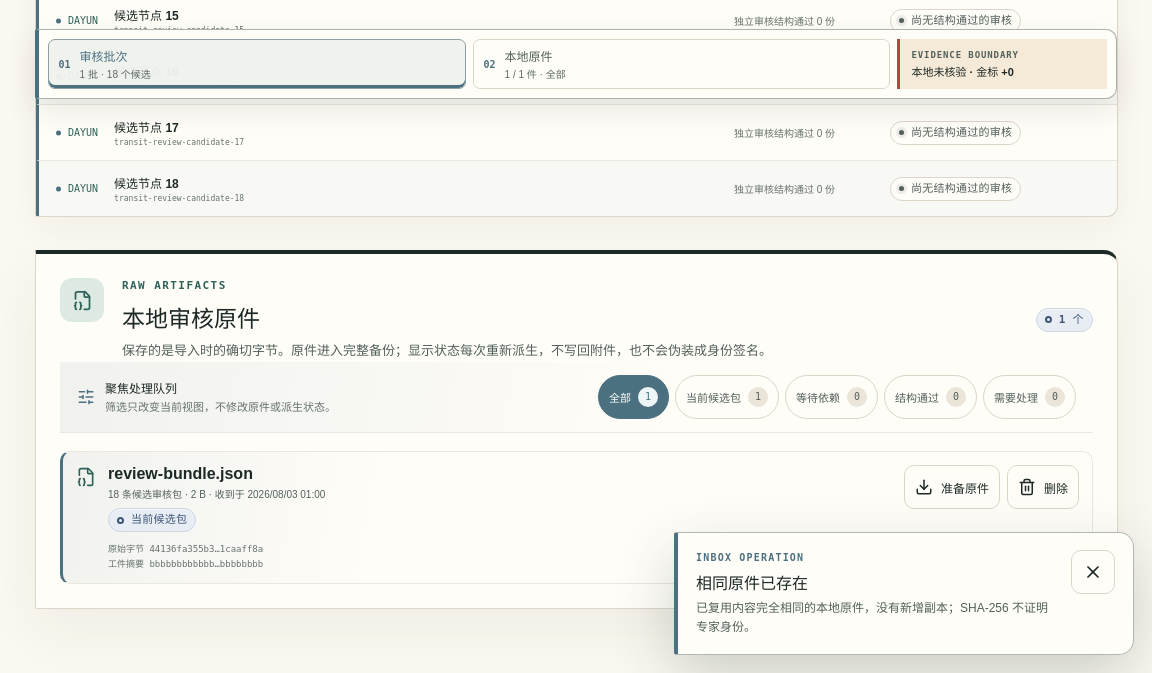
TransitReviewInboxPage › 统一导入、内容重复反馈、原件导出与摘要 CAS 双步删除都可操作
Earlier steps of the test are not shown.
(page scrolled)
Expected: the text "相同原件已存在" is shown, [696,575,808,592]
Click the button "准备原件" at (951, 487), box [903,465,999,509]
(page scrolled)
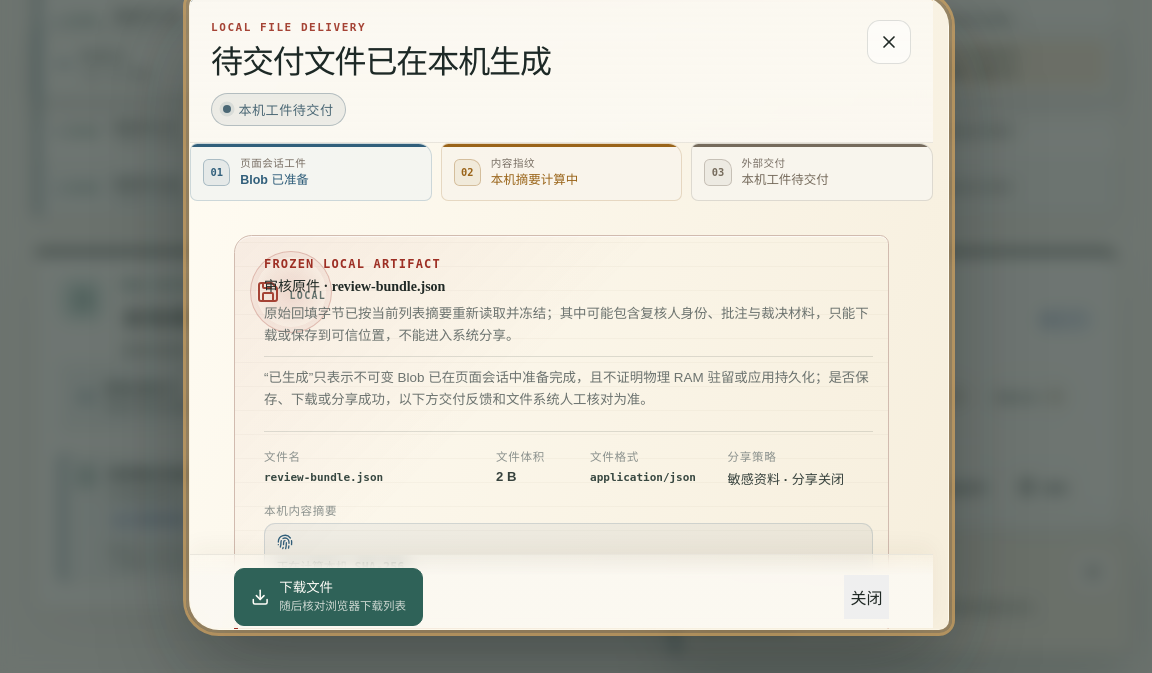
Click the button "下载文件 随后核对浏览器下载列表" at (328, 598), box [234,569,423,626]
(page scrolled)
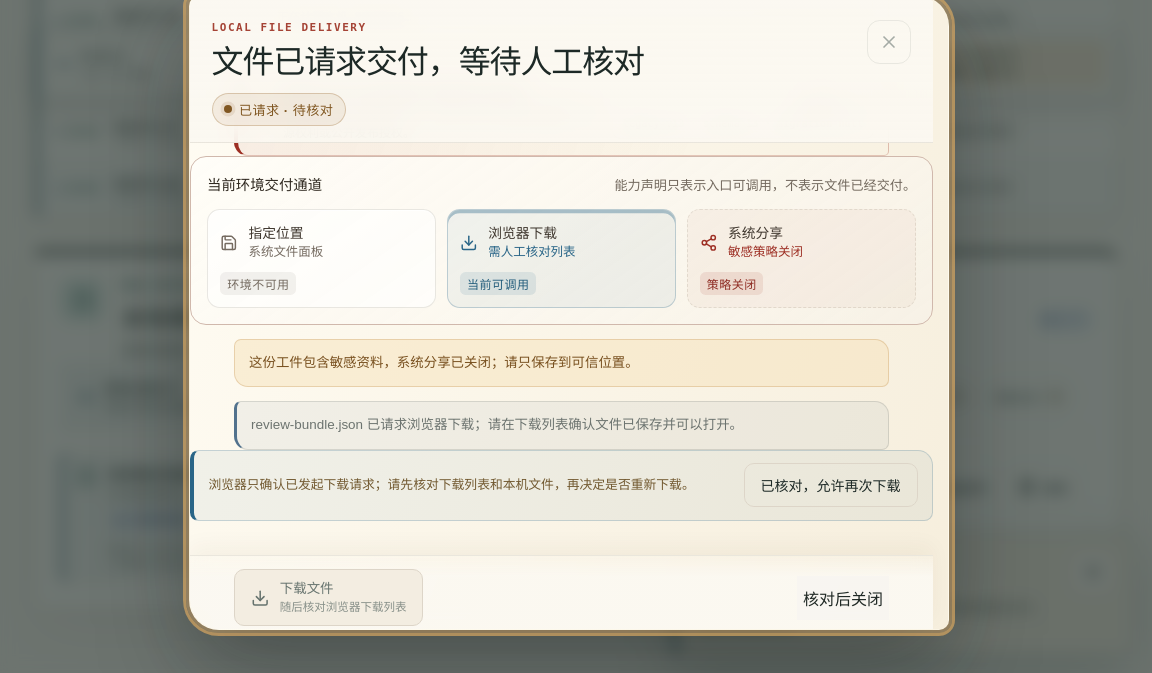
Click the button "已核对，允许再次下载" at (830, 485), box [743,463,917,507]
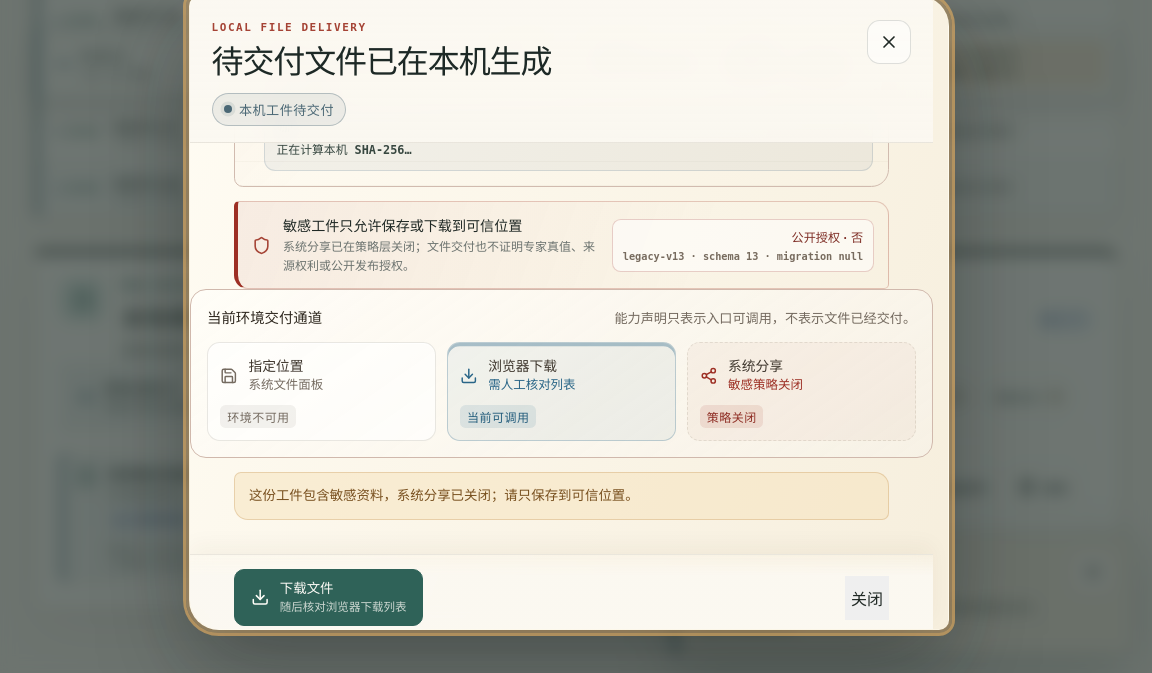
Click the button "关闭" at (866, 598), box [844,576,888,620]
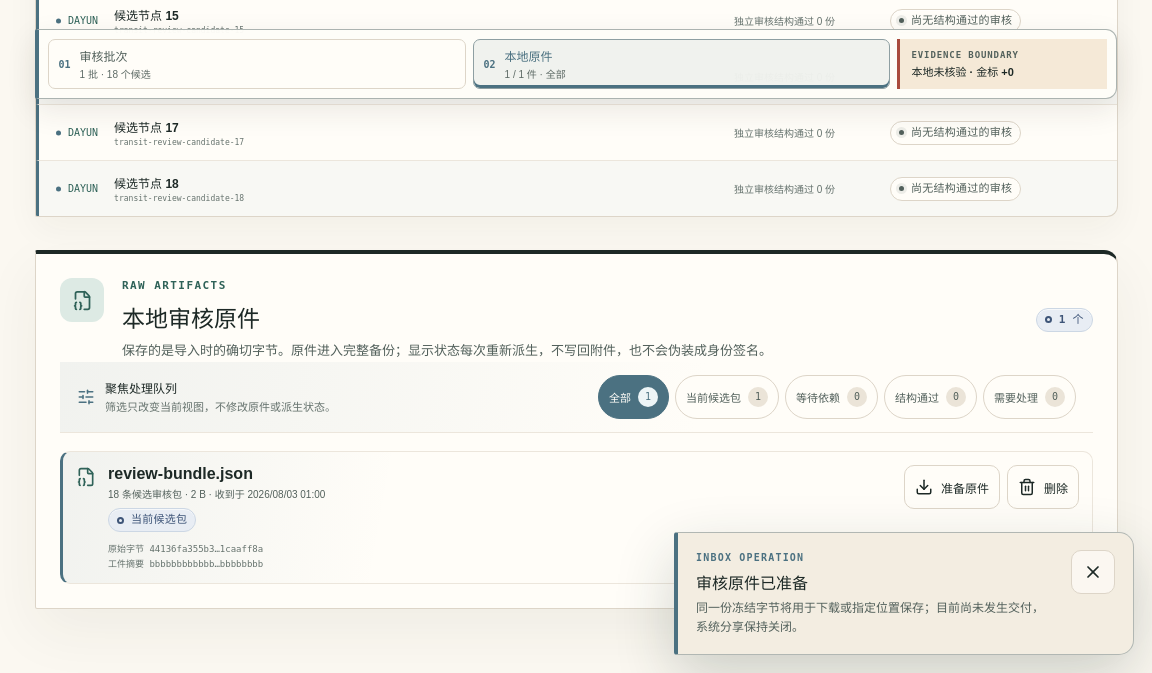
Click the button "删除" at (1042, 487), box [1006,465,1078,509]
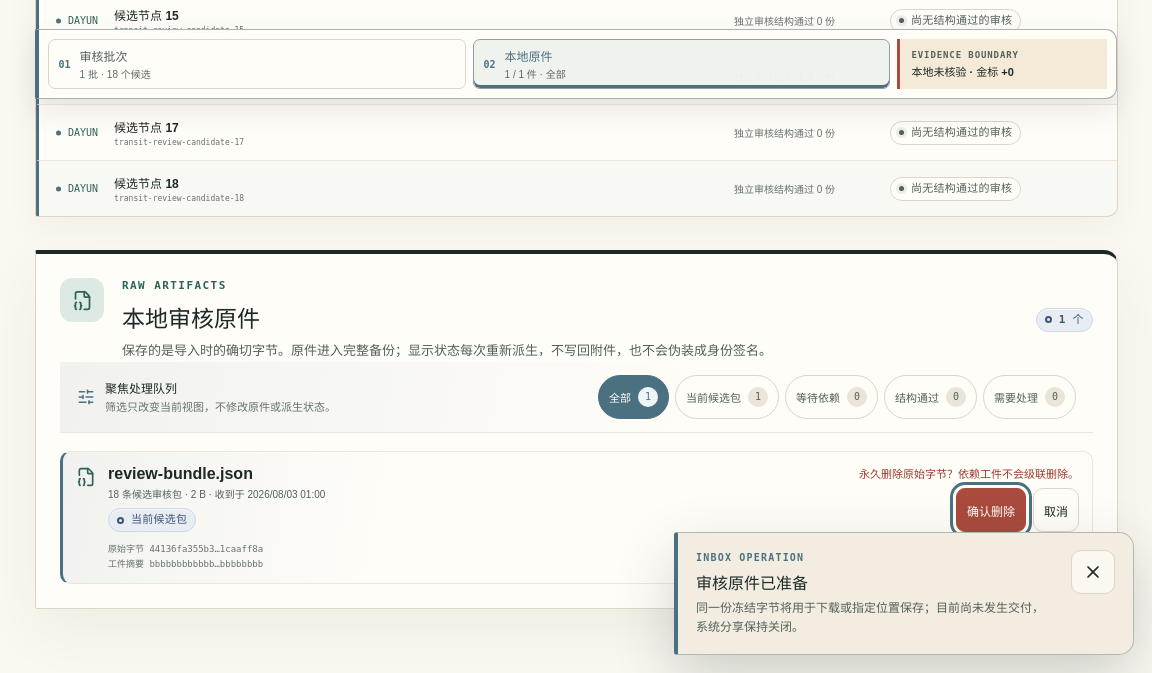
Click the button "确认删除" at (990, 510), box [955,488,1025,532]
(page scrolled)
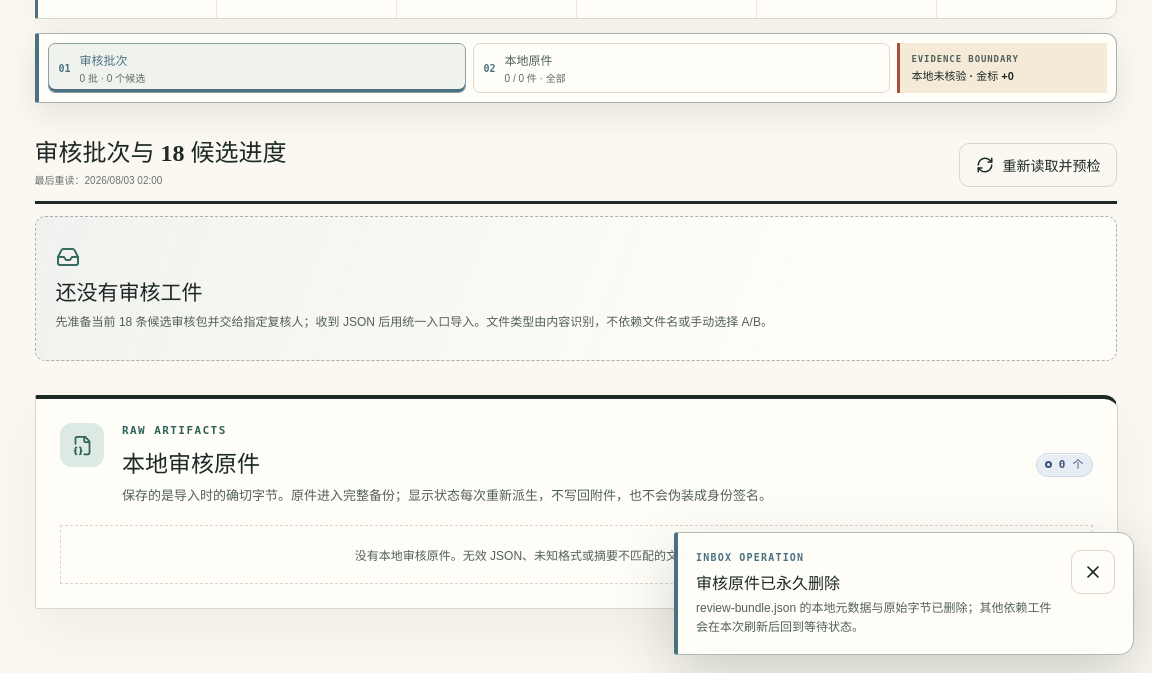
Now the text "审核原件已永久删除" is shown, box [696,575,840,592]
